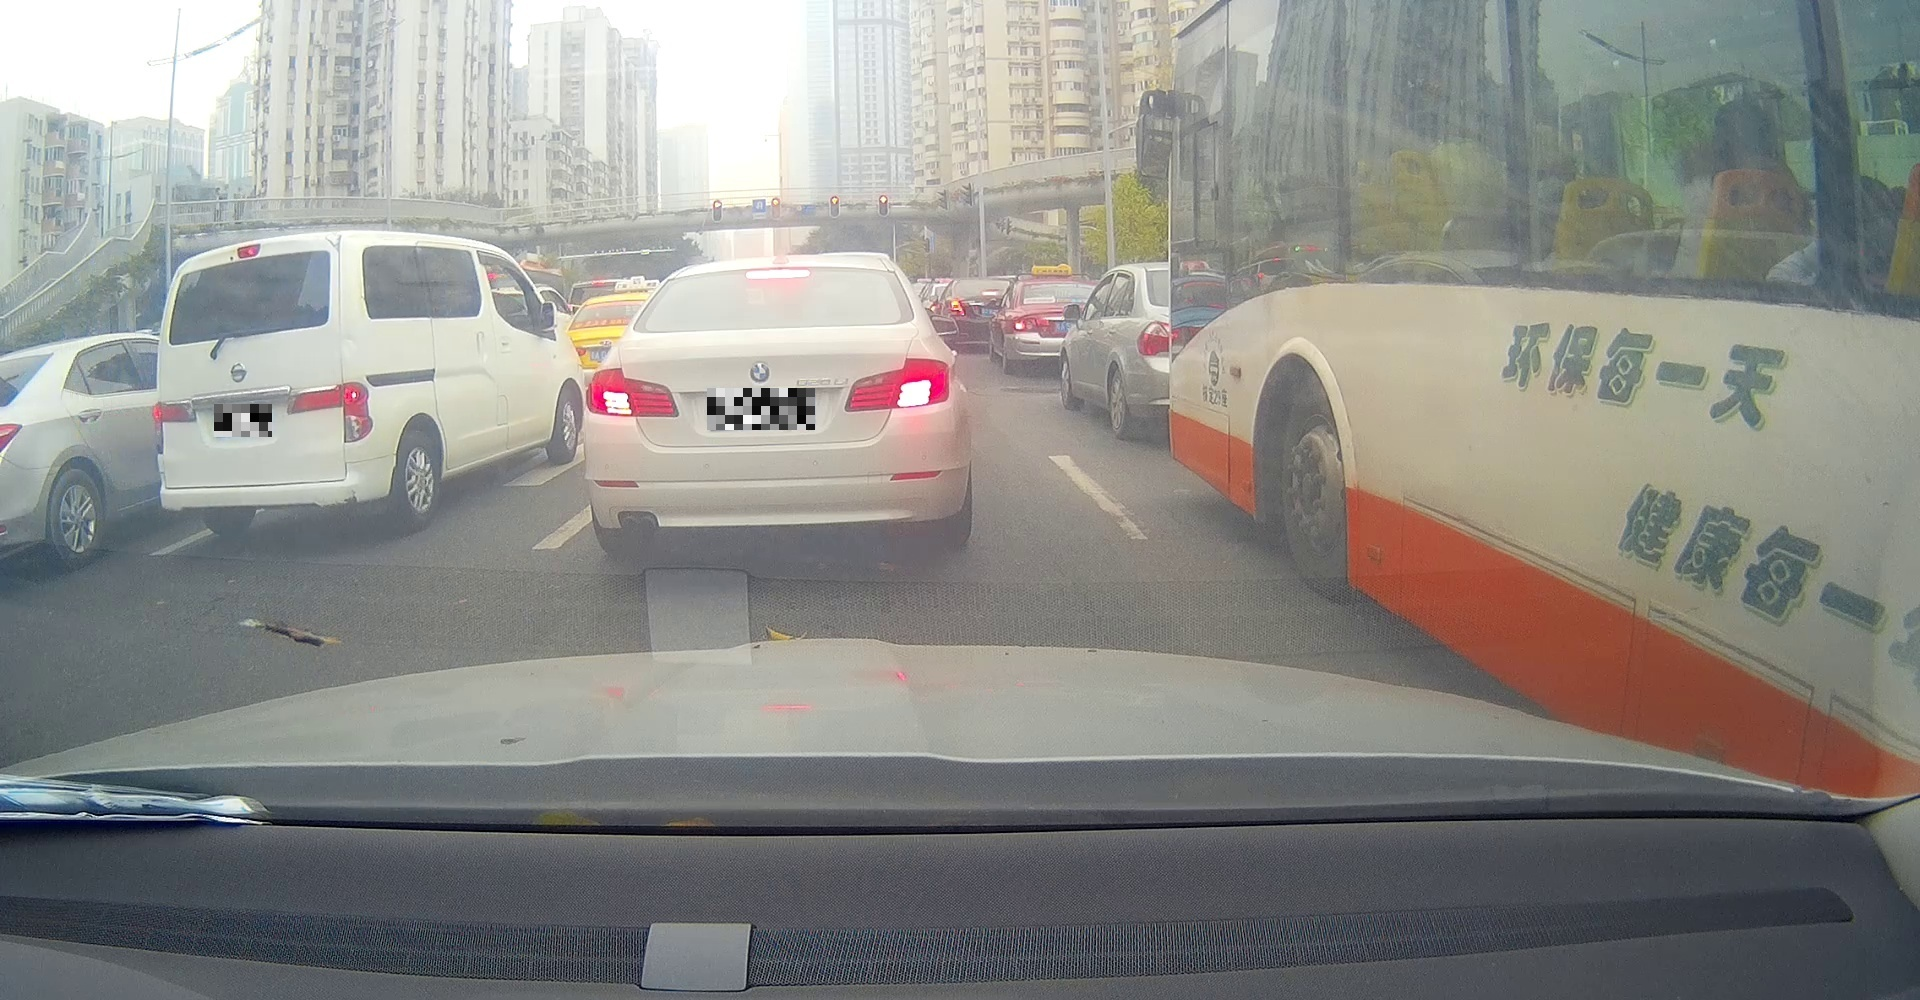L_light: (585, 367, 681, 418), (154, 398, 197, 454)
R_light: (844, 358, 951, 412), (287, 381, 375, 443)
T_light: (744, 266, 811, 280), (237, 242, 262, 259)
day-brake: (582, 253, 977, 556), (152, 231, 380, 536)
plate_1: (215, 404, 272, 437)
plate_2: (707, 388, 815, 430)
